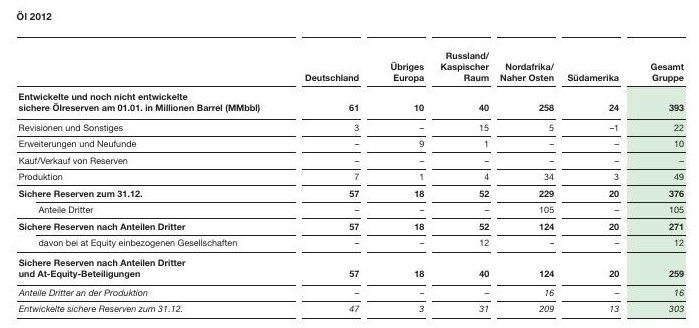table: (0, 0, 699, 328)
